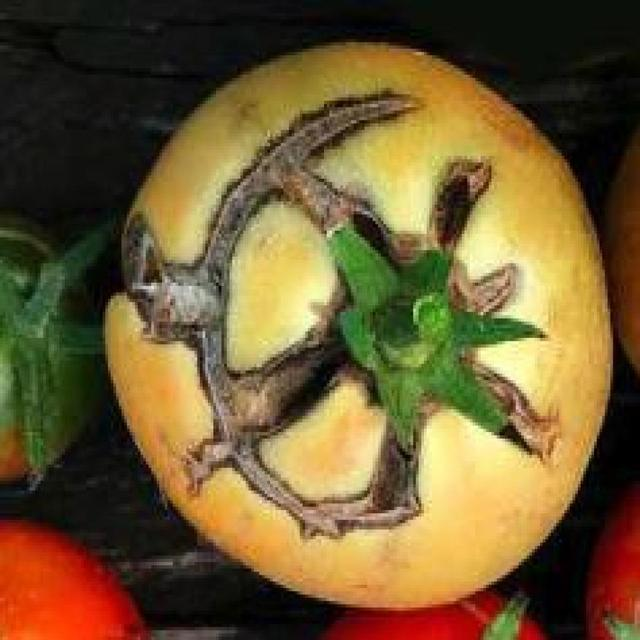Cracking Fruit: (75, 50, 376, 360)
